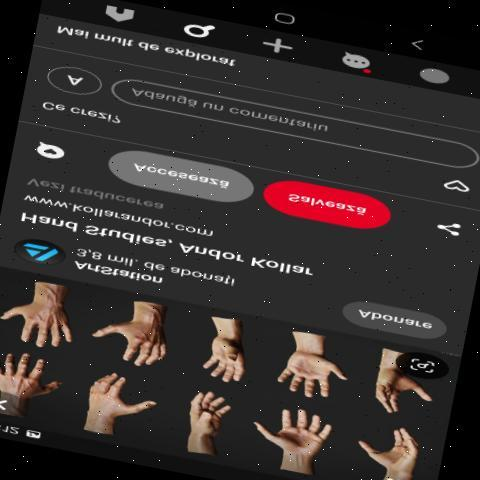Hands: (251, 406, 346, 470), (269, 336, 358, 399), (85, 310, 177, 368), (76, 373, 170, 425), (354, 419, 439, 474), (194, 325, 266, 388), (4, 295, 82, 349), (369, 364, 436, 417), (177, 394, 243, 442)
